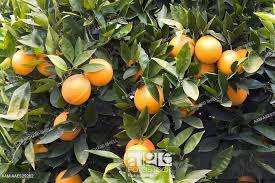orange: (132, 81, 164, 114), (61, 73, 91, 105), (81, 57, 114, 85), (193, 33, 222, 63), (165, 33, 194, 61), (12, 48, 38, 74), (219, 48, 239, 73)
